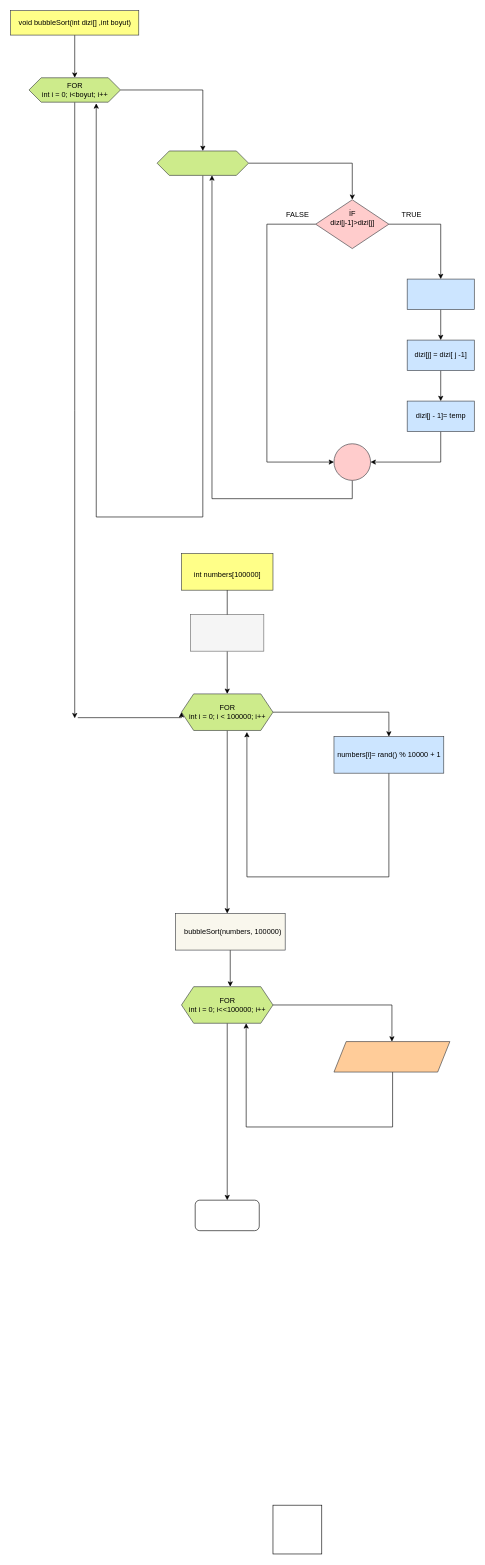
Some shapes in this 485 by 1565 pixel diagram are drawn without their labels. The centre of each missing label's shape, as x and y in pixels:
"%d.sayi= %d\n", i+1, numbers[i]: point (391, 1056)
FOR int j= 1; j < boyut-1; j++: point (202, 162)
int temp = dizi[j]: point (440, 294)
SON: point (227, 1215)
srand(time(0)): point (227, 632)
